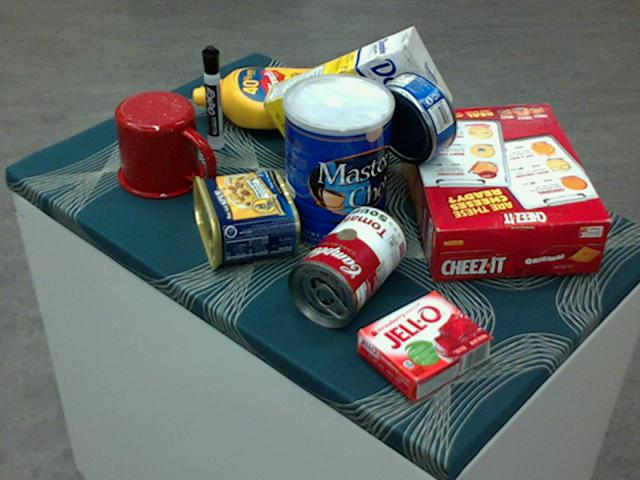cracker_box: (398, 103, 608, 280)
gelatin_box: (356, 290, 491, 400)
large_marker: (200, 44, 224, 149)
master_chef_can: (281, 74, 393, 253)
mug: (115, 90, 212, 198)
mustard_bottle: (191, 66, 358, 130)
potted_meat_can: (189, 168, 299, 269)
sugar_box: (259, 27, 450, 168)
tomato_soup_can: (285, 205, 407, 326)
tuna_fish_can: (370, 69, 457, 162)
